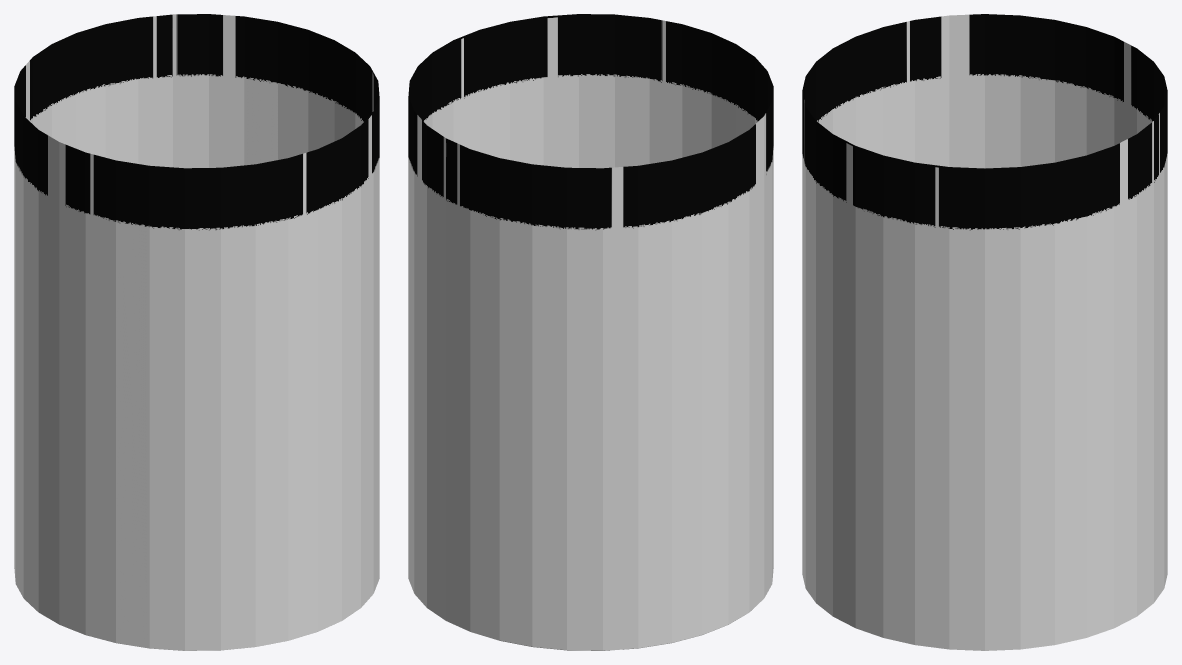
The model's file is GlowingItems.fbx.
3 views of the same model, side by side, from view 1: azimuth 30°, elevation 25°; view 2: azimuth 150°, elevation 25°; view 3: azimuth 270°, elevation 25° (orthographic).
Visible parts, largest first — view 1: Cylinder; view 2: Cylinder; view 3: Cylinder.
Boxes of the visible parts, x1,y1,x2,y2 form: Cylinder: (14, 14, 379, 650); Cylinder: (408, 14, 773, 650); Cylinder: (802, 14, 1167, 650).
Size of the model in its own units: 2 by 2.91 by 2.
